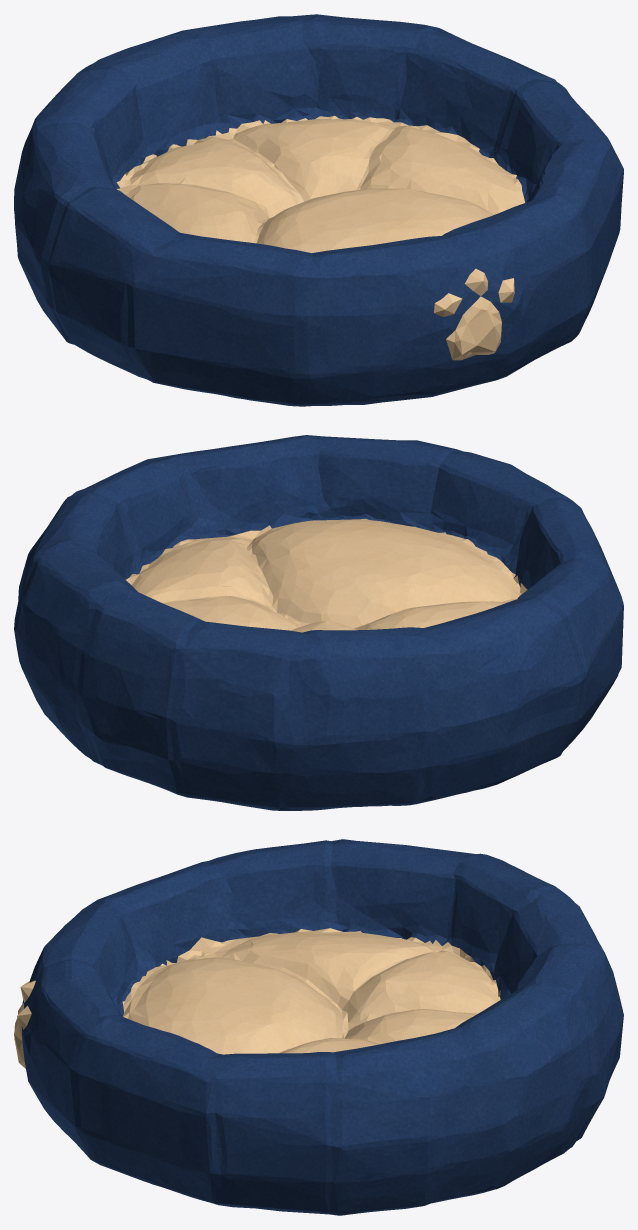
The model's file is DogBed_Unity_MaterialSeparated.fbx.
3 renders of one model, top to bottom at view 1: azimuth 30°, elevation 25°; view 2: azimuth 150°, elevation 25°; view 3: azimuth 270°, elevation 25°, orthographic. The views are drawn at different scales.
Visible parts, largest first — view 1: DogBed; view 2: DogBed; view 3: DogBed.
Part boxes in pixels (box(x1,y1,x2,y2)): DogBed: box(14, 14, 623, 406); DogBed: box(14, 435, 623, 810); DogBed: box(14, 839, 623, 1215).
Bounding box in the file's own units: 1.71 × 0.5165 × 1.72.
